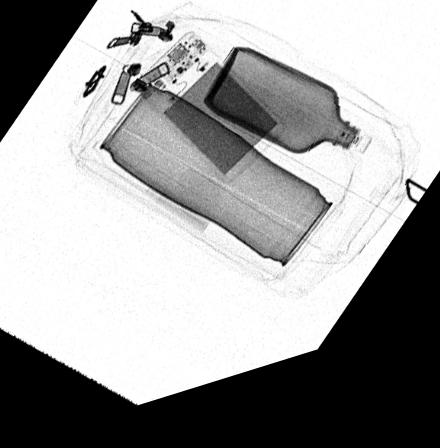Powerbank: (126, 42, 286, 198)
